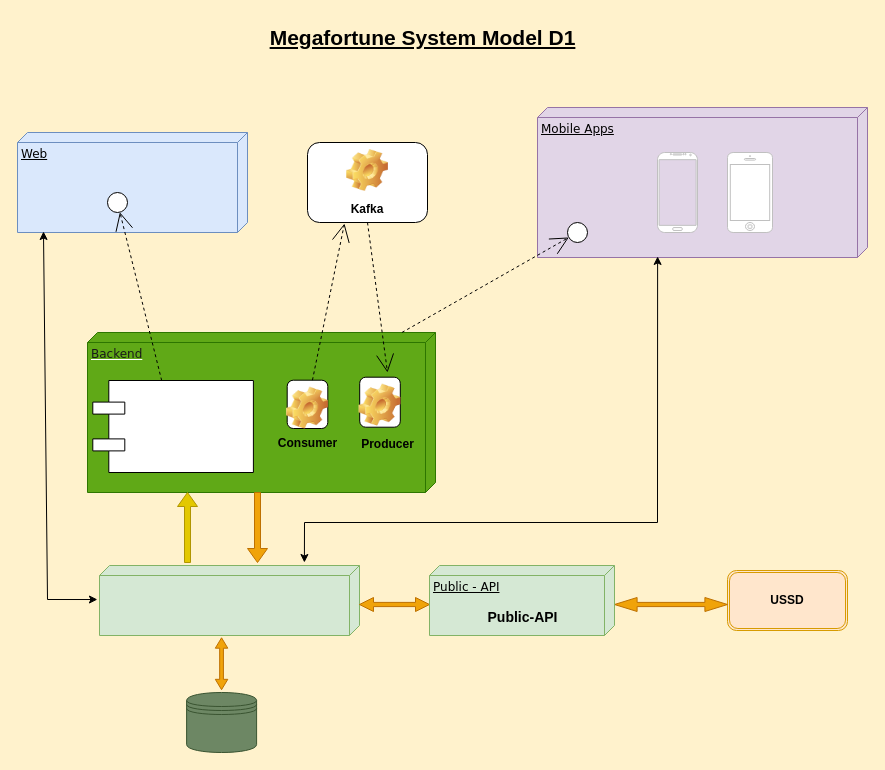
This 885x770 diagram has some shape labels left out. The box of each missing label's shape, as (x1, y1, x2, y2) in pixels:
API (BE): (92, 380, 253, 472)
DB (Postgres): (186, 692, 257, 752)
Hasura: (98, 564, 360, 636)
